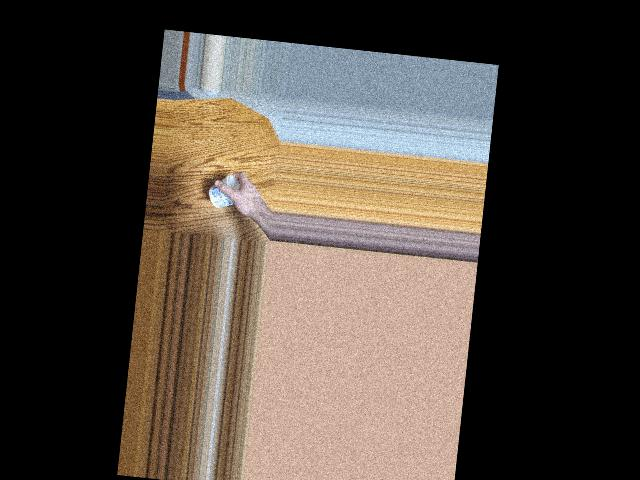cotage: (208, 174, 243, 211)
